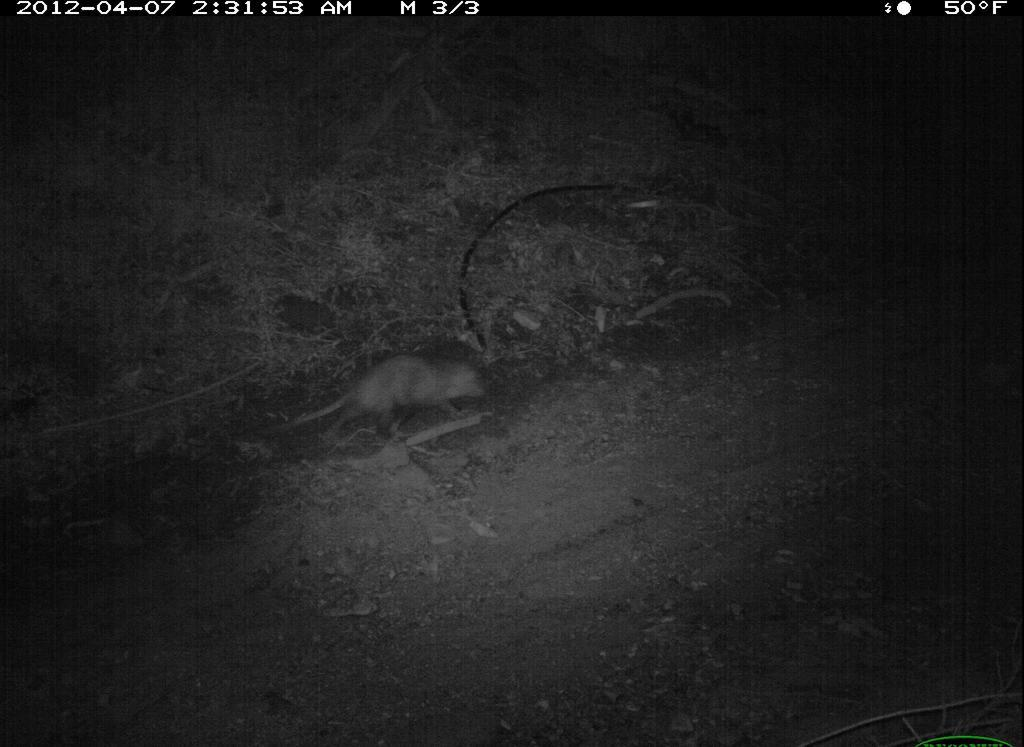opossum: (267, 341, 515, 457)
